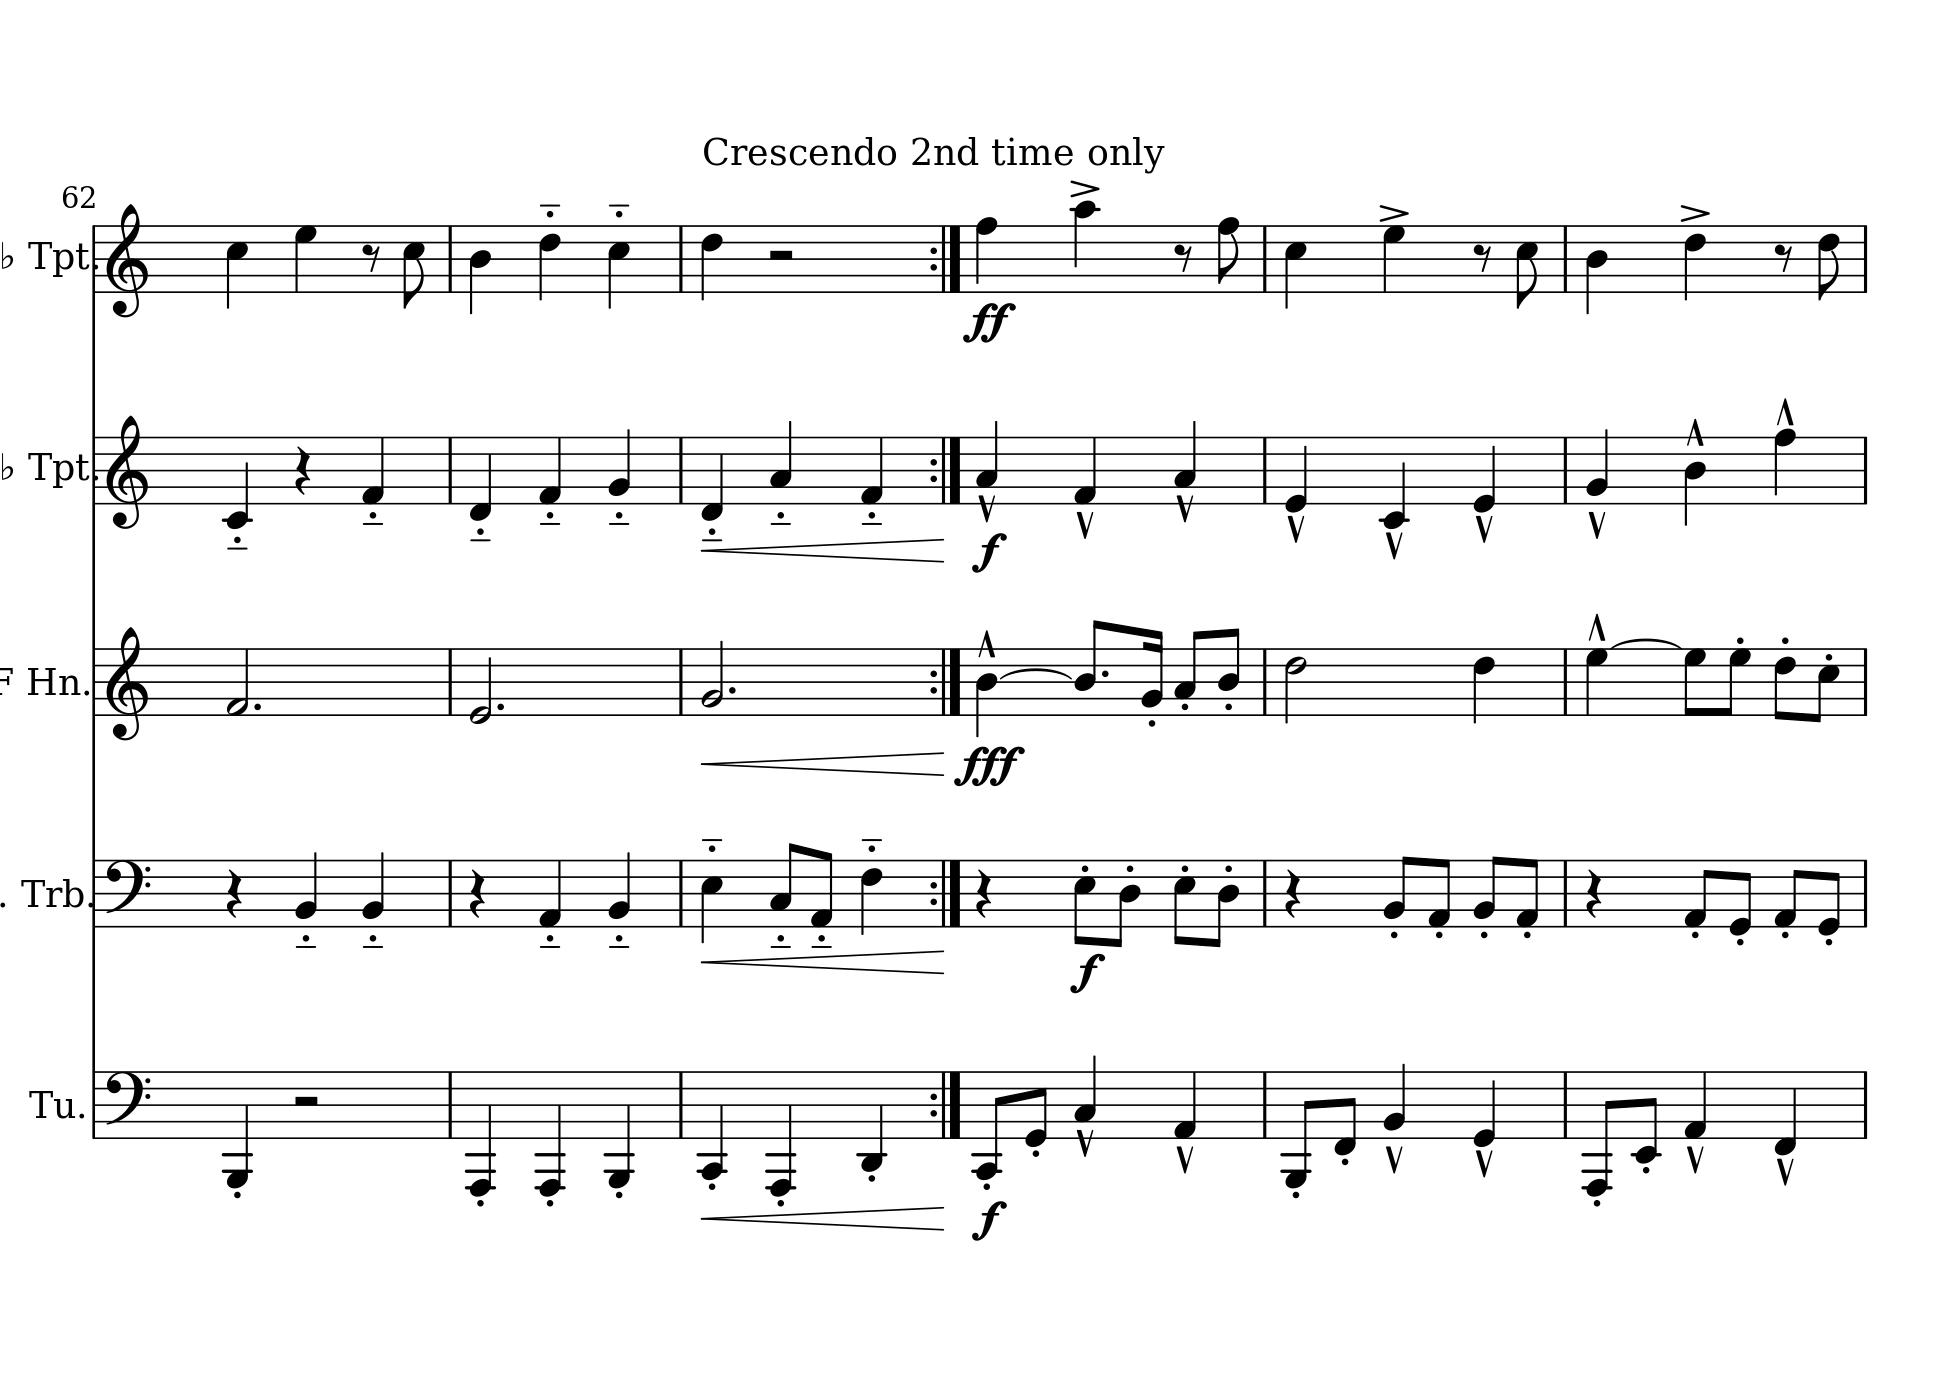16_2: (1138, 627, 1164, 717)
2: (78, 183, 97, 208)
2_0: (466, 645, 493, 724)
2_1: (223, 646, 250, 718)
2_2: (699, 639, 726, 717)
2_6: (1282, 646, 1308, 724)
4_-1: (468, 433, 493, 523), (1773, 1068, 1798, 1155), (700, 433, 724, 522)
4_-2: (223, 433, 250, 529), (1380, 433, 1407, 526)
4_-3: (856, 1066, 886, 1174)
4_-4: (694, 1066, 727, 1180)
4_-5: (603, 1066, 634, 1189), (222, 1066, 253, 1188)
4_-6: (532, 1066, 567, 1195), (463, 1068, 498, 1195), (765, 1066, 798, 1195)
4_0: (1471, 1068, 1497, 1147), (1284, 433, 1309, 511), (1473, 433, 1497, 513)
4_1: (1681, 1069, 1708, 1140), (360, 435, 385, 505), (537, 435, 562, 505), (1072, 435, 1098, 505), (537, 858, 562, 928), (1173, 1069, 1198, 1140), (859, 435, 883, 505)
4_10: (1071, 198, 1101, 295)
4_2: (292, 849, 319, 928), (1381, 1060, 1408, 1140), (1585, 426, 1611, 505), (360, 849, 385, 928), (606, 849, 631, 927), (607, 427, 631, 505)
4_3: (975, 418, 1000, 505), (1173, 418, 1198, 505), (768, 418, 793, 504), (1072, 1053, 1098, 1138)
4_4: (466, 223, 492, 316), (1584, 223, 1609, 316), (1683, 433, 1708, 526), (973, 648, 999, 738)
4_5: (223, 223, 249, 310), (606, 223, 631, 310), (1282, 223, 1308, 310), (699, 858, 724, 945)
4_6: (1681, 223, 1708, 304), (535, 225, 562, 304), (858, 859, 883, 937), (699, 223, 723, 301), (1471, 646, 1495, 724)
4_7: (292, 223, 319, 294), (1584, 646, 1611, 717), (1381, 223, 1407, 295)
4_8: (1771, 426, 1798, 507), (973, 214, 1000, 294)
6: (61, 181, 79, 208)
8_-1: (1333, 1069, 1359, 1156)
8_-2: (1632, 1068, 1662, 1164)
8_-4: (970, 1069, 1006, 1180)
8_-5: (1281, 1069, 1315, 1188)
8_-6: (1582, 1066, 1615, 1195)
8_0: (1815, 858, 1842, 939), (1728, 858, 1755, 937), (1024, 1069, 1050, 1149)
8_1: (1681, 856, 1716, 930), (1771, 856, 1804, 930), (808, 847, 835, 930), (1513, 856, 1542, 931), (1425, 856, 1452, 930)
8_2: (1381, 853, 1413, 928), (1471, 853, 1503, 928)
8_3: (768, 840, 799, 928), (1173, 628, 1203, 715)
8_4: (1074, 616, 1107, 718), (1110, 859, 1143, 949), (1209, 859, 1242, 949), (1216, 625, 1242, 717)
8_5: (1809, 646, 1842, 724), (1071, 858, 1098, 946), (1513, 223, 1540, 310), (1171, 858, 1197, 946), (400, 223, 426, 310)
8_6: (1815, 223, 1843, 303), (1771, 646, 1797, 721)
8_7: (1720, 646, 1752, 717), (1681, 646, 1707, 718)
8_8: (1215, 214, 1242, 295)
Accent_above: (1678, 202, 1713, 222), (1377, 202, 1410, 222), (1068, 178, 1101, 196)
Crescendo_hairpin: (703, 1203, 945, 1236), (703, 748, 943, 781), (700, 535, 948, 567), (700, 948, 943, 978)
Fclef: (102, 1068, 151, 1138), (103, 856, 151, 928)
Gclef: (105, 625, 150, 742), (105, 412, 148, 531), (105, 202, 148, 319)
Hn: (22, 661, 81, 703)
Marcato_above: (1683, 417, 1707, 448), (1585, 610, 1608, 643), (1773, 397, 1797, 427), (1473, 513, 1497, 541), (1383, 529, 1407, 558), (973, 628, 997, 657), (1473, 1147, 1497, 1174), (1774, 1156, 1798, 1183), (976, 493, 999, 520), (1074, 508, 1096, 535), (1174, 1144, 1197, 1171), (1684, 1144, 1707, 1171), (1176, 492, 1197, 520), (1587, 508, 1608, 537), (1287, 513, 1308, 540), (1384, 1144, 1405, 1170), (1075, 1129, 1095, 1155)
Rests2: (289, 1090, 324, 1111), (765, 247, 796, 265)
Rests4: (466, 865, 489, 919), (292, 442, 313, 496), (223, 865, 244, 919), (973, 865, 994, 919), (1584, 865, 1605, 919), (1282, 867, 1303, 919)
Rests8: (360, 241, 382, 274), (1173, 241, 1194, 274), (1473, 241, 1494, 274), (1773, 241, 1794, 274)
RightRepeatSign: (928, 223, 964, 292), (928, 858, 964, 927), (928, 1069, 964, 1138), (928, 648, 964, 714), (928, 436, 963, 502)
Single_barline: (1857, 223, 1875, 292), (1857, 435, 1875, 504), (1857, 646, 1875, 715), (1857, 1069, 1875, 1138), (1257, 223, 1275, 291), (1257, 646, 1275, 714), (1557, 1071, 1575, 1138), (1257, 436, 1275, 502), (1557, 859, 1575, 925), (1557, 223, 1573, 292), (442, 646, 459, 715), (1857, 859, 1873, 928), (1257, 1069, 1273, 1138), (1557, 435, 1573, 502), (1558, 646, 1575, 714), (85, 859, 102, 927), (672, 436, 688, 502), (1257, 859, 1273, 925), (88, 435, 103, 505), (88, 223, 103, 292), (87, 646, 102, 715), (442, 436, 457, 504), (442, 859, 457, 927), (442, 1071, 457, 1138), (673, 1071, 688, 1138), (442, 225, 457, 291), (673, 225, 688, 291), (673, 648, 688, 714), (673, 859, 688, 925), (87, 1071, 100, 1138)
Slur: (999, 666, 1074, 679), (1608, 637, 1681, 649)
Staccatissimo: (814, 930, 829, 943)
Tpt: (24, 445, 88, 490), (25, 235, 87, 277)
Trb: (19, 870, 84, 910)
dot: (1098, 666, 1111, 679), (250, 697, 262, 712), (772, 1195, 787, 1207), (493, 699, 505, 712), (726, 684, 738, 696)
f: (970, 531, 1011, 574), (969, 1198, 1009, 1240), (1068, 951, 1107, 994)
ff: (958, 300, 1017, 346)
fff: (952, 742, 1029, 790)
